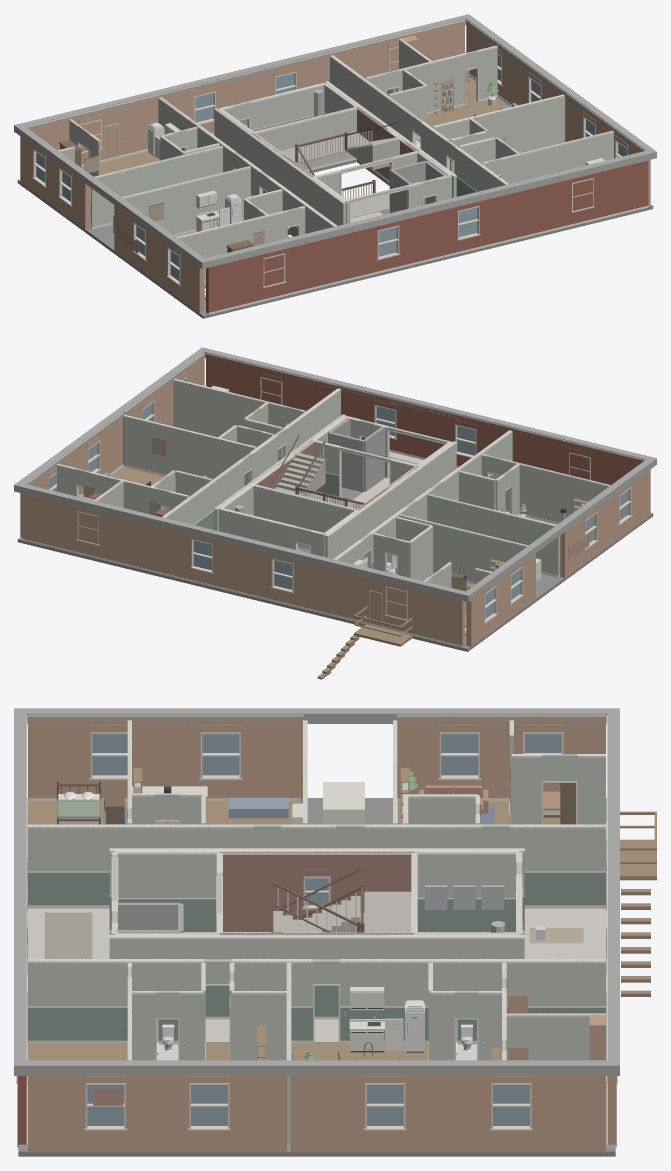
Rendered from floor_06.glb.
3 renders of one model, top to bottom at view 1: azimuth 30°, elevation 25°; view 2: azimuth 150°, elevation 25°; view 3: azimuth 270°, elevation 25°, orthographic. The views are drawn at different scales.
Parts seen in each view (by area): view 1: F06_walls-col, F06_walls_cbrick-col, F06_walls_fbrick-col, F06_cornice, F06_trim, F06_stone_trim-col, F06_glazing-col, F06_slabs-col, F06_stairs, F06_floors_floor_oak, F06_walls_conc-col, F06_walls_brick-col (+7 smaller); view 2: F06_walls-col, F06_walls_cbrick-col, F06_cornice, F06_walls_fbrick-col, F06_trim, F06_stone_trim-col, F06_glazing-col, F06_walls_conc-col, F06_slabs-col, F06_stairs, F06_furniture_timber-col, F06_wainscot (+5 smaller); view 3: F06_walls-col, F06_walls_cbrick-col, F06_cornice, F06_trim, F06_wainscot, F06_glazing-col, F06_walls_brick-col, F06_floors_terrazzo, F06_floors_floor_oak, F06_stone_trim-col, F06_slabs-col, F06_stairs (+17 smaller).
Boxes of the visible parts, x1,y1,x2,y2 form: F06_walls-col: [60, 39, 613, 280]; F06_walls_cbrick-col: [20, 21, 650, 313]; F06_walls_fbrick-col: [206, 160, 648, 314]; F06_cornice: [14, 14, 656, 269]; F06_trim: [25, 19, 648, 314]; F06_stone_trim-col: [32, 46, 627, 288]; F06_glazing-col: [36, 55, 626, 280]; F06_slabs-col: [17, 159, 653, 318]; F06_stairs: [280, 133, 399, 217]; F06_floors_floor_oak: [81, 77, 508, 311]; F06_walls_conc-col: [390, 161, 446, 212]; F06_walls_brick-col: [252, 107, 418, 180]; F06_walls-col: [57, 381, 610, 587]; F06_walls_cbrick-col: [20, 354, 650, 647]; F06_cornice: [14, 347, 656, 602]; F06_walls_fbrick-col: [206, 354, 643, 484]; F06_trim: [22, 352, 644, 647]; F06_stone_trim-col: [48, 377, 632, 627]; F06_glazing-col: [49, 380, 628, 618]; F06_walls_conc-col: [328, 418, 385, 492]; F06_slabs-col: [17, 457, 653, 651]; F06_stairs: [275, 452, 361, 508]; F06_furniture_timber-col: [317, 607, 412, 679]; F06_wainscot: [194, 456, 512, 568]; F06_walls-col: [28, 720, 605, 1145]; F06_walls_cbrick-col: [28, 717, 616, 1152]; F06_cornice: [14, 708, 619, 1075]; F06_trim: [17, 714, 616, 1147]; F06_wainscot: [28, 873, 605, 1040]; F06_glazing-col: [87, 734, 561, 1125]; F06_walls_brick-col: [219, 851, 414, 935]; F06_floors_terrazzo: [28, 908, 605, 1042]; F06_floors_floor_oak: [28, 802, 560, 1060]; F06_stone_trim-col: [16, 732, 617, 1130]; F06_slabs-col: [18, 798, 615, 1156]; F06_stairs: [273, 891, 411, 932].
Size of what is drawn, in the model's own units: 28.24 by 7.42 by 21.47.
